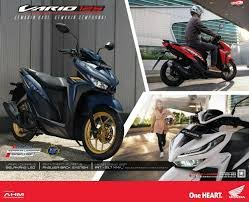motor: (14, 52, 124, 157), (161, 115, 245, 181), (155, 34, 240, 87)
